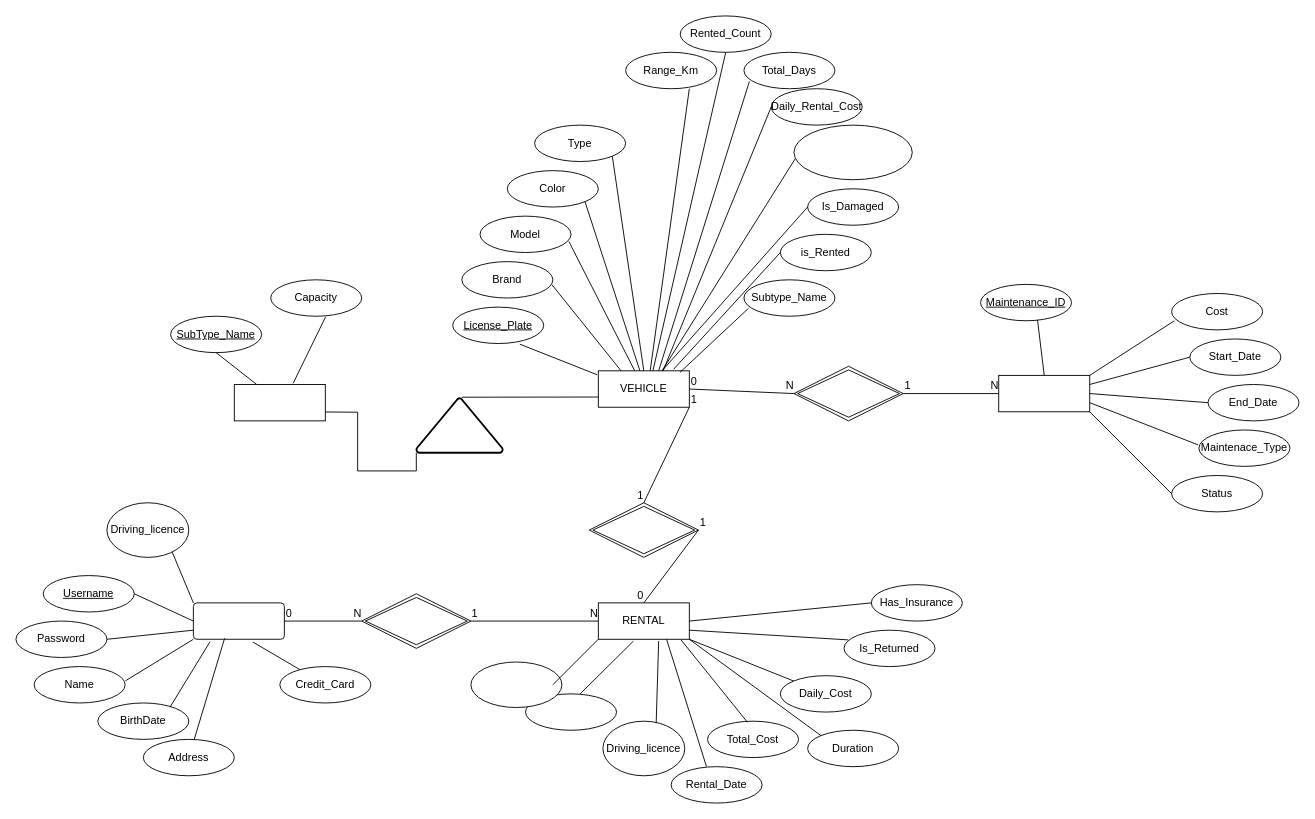
Some shapes in this 1315 by 819 pixel diagram are drawn without their labels. The centre of each missing label's shape, as x and y in pixels:
"CaryType" goes at (279,402).
"Daily_Insurance_COST" goes at (852,152).
"isa" goes at (459,425).
"Maintance" goes at (1044,393).
"new_carplate" goes at (571,711).
"rental_id" goes at (516,684).
"rented by" goes at (416,620).
"Rents" goes at (643,529).
"Requires" goes at (848,393).
"USER" goes at (238,620).
